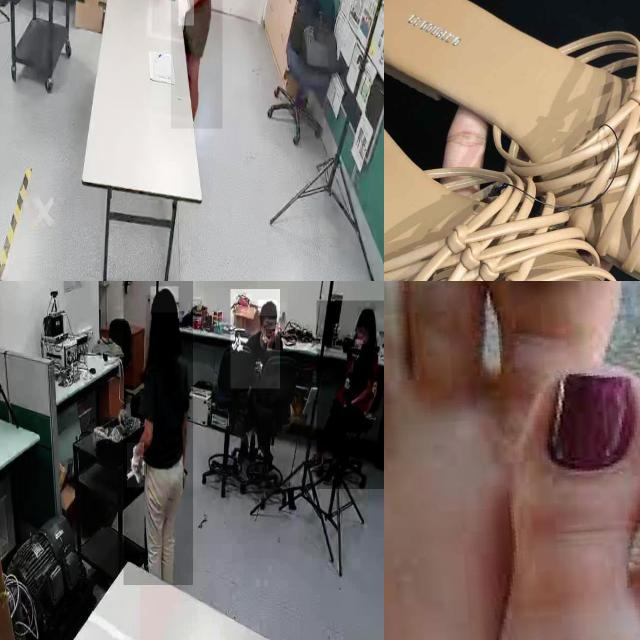Barefoots: (384, 281, 640, 640)
Sandals: (384, 0, 640, 281)
face_nomask: (357, 327, 369, 344)
hand_glove: (127, 443, 145, 488), (178, 0, 194, 26)
hand_noglove: (266, 329, 276, 349)
head_nohelmet: (151, 286, 179, 313), (357, 306, 375, 324), (258, 300, 277, 316)
person: (123, 281, 193, 585), (316, 300, 384, 489), (171, 0, 223, 129), (230, 289, 280, 389)
